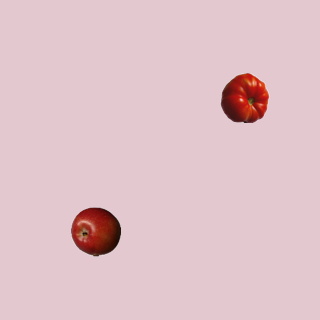Apple Braeburn: (70, 206, 120, 256)
Tomato 3: (219, 72, 269, 122)
